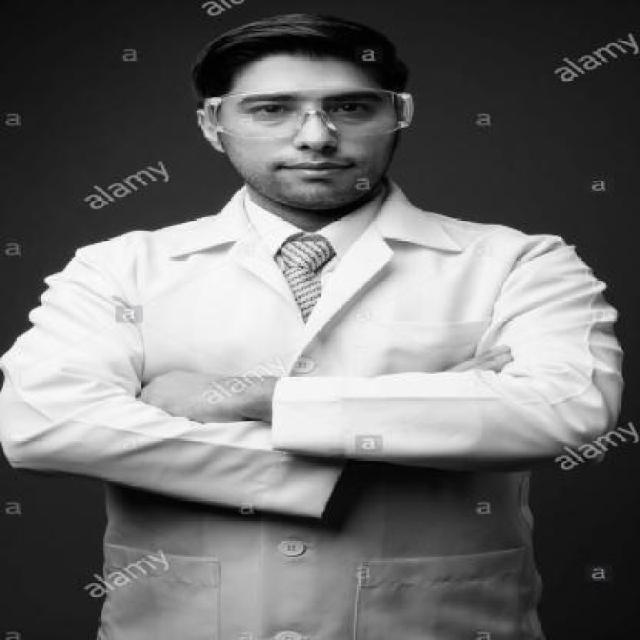face_nomask: (235, 88, 391, 185)
glasses: (198, 86, 422, 143)
head_nohelmet: (203, 12, 394, 71)
person: (0, 0, 583, 640)
